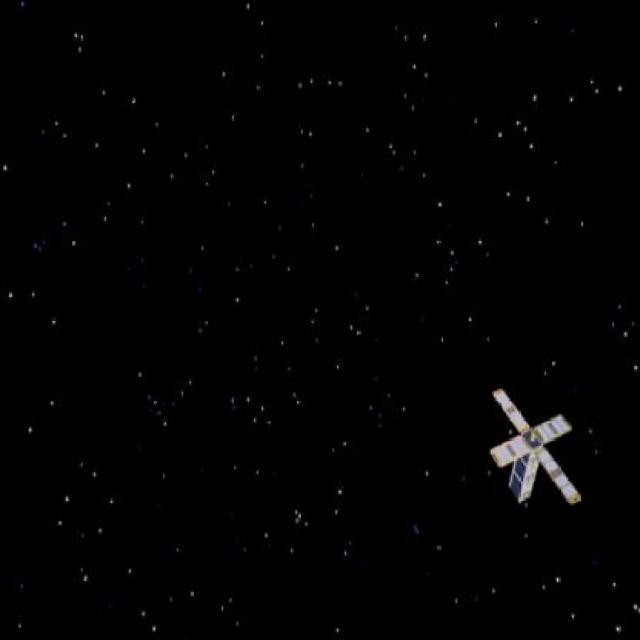satellite: (477, 388, 598, 514)
